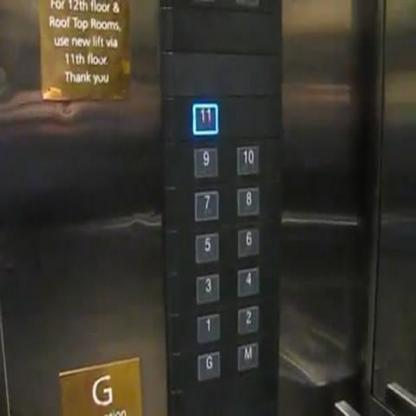1: (196, 312, 220, 343)
10: (234, 143, 259, 176)
11: (191, 100, 219, 136)
2: (236, 304, 258, 336)
3: (196, 272, 219, 303)
4: (236, 266, 259, 296)
5: (194, 230, 220, 264)
6: (235, 226, 260, 258)
7: (192, 189, 220, 221)
8: (235, 184, 259, 216)
9: (192, 146, 219, 176)
G: (197, 350, 220, 381)
M: (236, 341, 259, 371)
